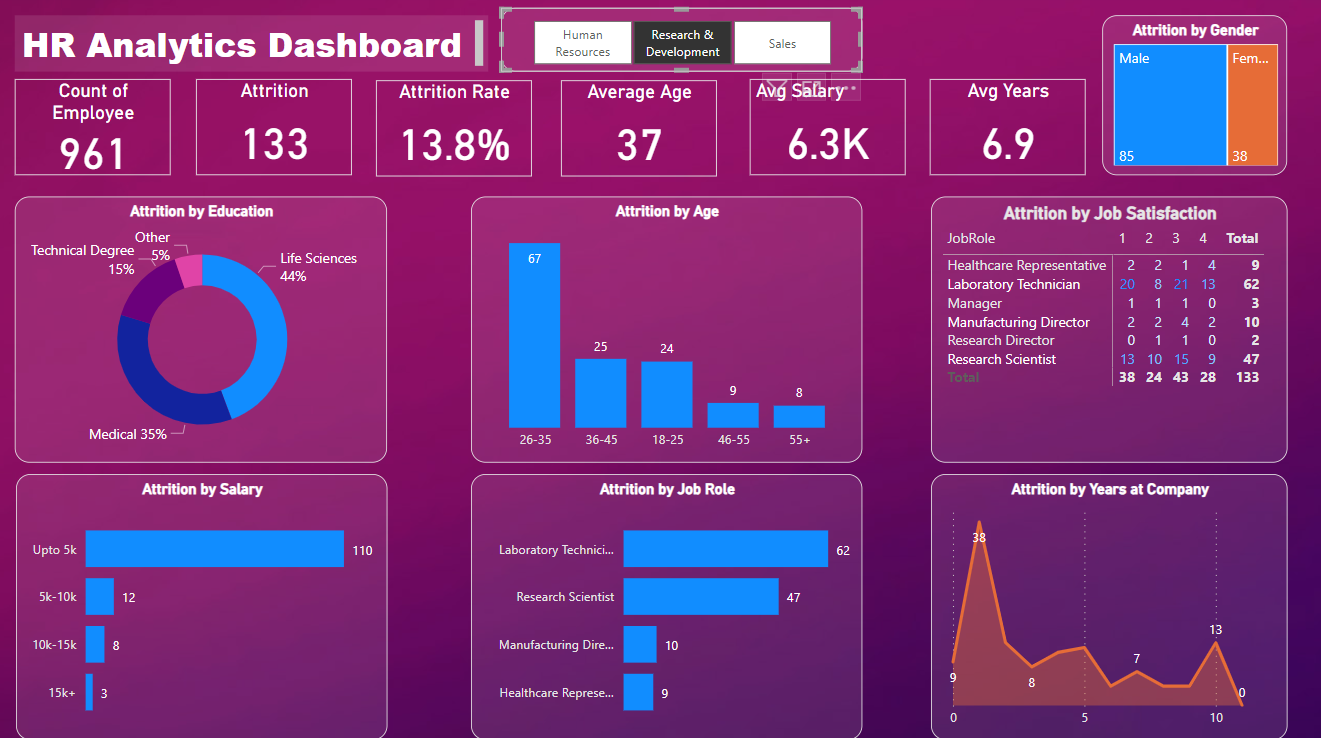

What the dashboard file says about the page in this screenshot:
{"tool":"powerbi","page":{"name":"Page 1","canvas":[1280,720],"ordinal":0},"visuals":[{"type":"card","title":"Count of Employee","fields":{"Values":["Count(HR_Analytics.EmpID)"]},"box":[18.6,81.4,150,92.9],"z":0},{"type":"card","title":"Attrition","fields":{"Values":["Sum(HR_Analytics.AttritionCount)"]},"box":[192.9,81.4,150,92.9],"z":1000},{"type":"card","title":"Average Age","fields":{"Values":["Avg(HR_Analytics.Age)"]},"box":[545.7,82.9,150,92.9],"z":2000},{"type":"card","title":"Attrition Rate","fields":{"Values":["HR_Analytics.AttritionRate"]},"box":[367.1,82.9,150,92.9],"z":3000},{"type":"card","title":"Avg Salary","fields":{"Values":["Avg(HR_Analytics.MonthlyIncome)"]},"box":[727.1,81.4,150,92.9],"z":4000},{"type":"card","title":"Avg Years","fields":{"Values":["Avg(HR_Analytics.YearsAtCompany)"]},"box":[901.4,81.4,150,92.9],"z":5000},{"type":"donutChart","title":"Attrition by Education","fields":{"Category":["HR_Analytics.EducationField"],"Y":["Sum(HR_Analytics.AttritionCount)"]},"box":[18.1,195.4,359.4,256.9],"z":6000},{"type":"columnChart","title":"Attrition by Age","fields":{"Category":["HR_Analytics.AgeGroup"],"Y":["Sum(HR_Analytics.AttritionCount)"]},"box":[458.3,195.4,377.5,256.9],"z":7000},{"type":"pivotTable","title":"Attrition by Job Satisfaction","fields":{"Rows":["HR_Analytics.JobRole"],"Columns":["HR_Analytics.JobSatisfaction"],"Values":["Sum(HR_Analytics.AttritionCount)"]},"box":[902,195.7,344.3,257.1],"z":8000},{"type":"clusteredBarChart","title":"Attrition by Salary","fields":{"Category":["HR_Analytics.SalarySlab"],"Y":["Sum(HR_Analytics.AttritionCount)"]},"box":[19.3,463.1,358.2,256.9],"z":9000},{"type":"clusteredBarChart","title":"Attrition by Job Role","fields":{"Category":["HR_Analytics.JobRole"],"Y":["Sum(HR_Analytics.AttritionCount)"]},"box":[458.3,463.1,377.5,256.9],"z":10000},{"type":"areaChart","title":"Attrition by Years at Company","fields":{"Category":["HR_Analytics.YearsAtCompany"],"Y":["Sum(HR_Analytics.AttritionCount)"]},"box":[902,462.9,344.3,257.1],"z":11000},{"type":"treemap","title":"Attrition by Gender","fields":{"Group":["HR_Analytics.Gender"],"Values":["Sum(HR_Analytics.AttritionCount)"]},"box":[1067.7,20,178.6,154.3],"z":12000},{"type":"slicer","fields":{"Values":["HR_Analytics.Department"]},"box":[487.7,12.9,348.6,61.4],"z":13000},{"type":"textbox","box":[18.6,20,457.1,54.3],"z":14000}]}

Visuals, with their boxes in screenshot pixels (x1, y1, x2, y2), scaled from the page's 1280x720 canvas onto the 1321x738 screenshot:
"Count of Employee" card: (19, 83, 174, 179)
"Attrition" card: (199, 83, 354, 179)
"Average Age" card: (563, 85, 718, 180)
"Attrition Rate" card: (379, 85, 534, 180)
"Avg Salary" card: (750, 83, 905, 179)
"Avg Years" card: (930, 83, 1085, 179)
"Attrition by Education" donutChart: (19, 200, 390, 464)
"Attrition by Age" columnChart: (473, 200, 863, 464)
"Attrition by Job Satisfaction" pivotTable: (931, 201, 1286, 464)
"Attrition by Salary" clusteredBarChart: (20, 475, 390, 737)
"Attrition by Job Role" clusteredBarChart: (473, 475, 863, 737)
"Attrition by Years at Company" areaChart: (931, 474, 1286, 737)
"Attrition by Gender" treemap: (1102, 20, 1286, 179)
slicer - HR_Analytics.Department: (503, 13, 863, 76)
textbox: (19, 20, 491, 76)
